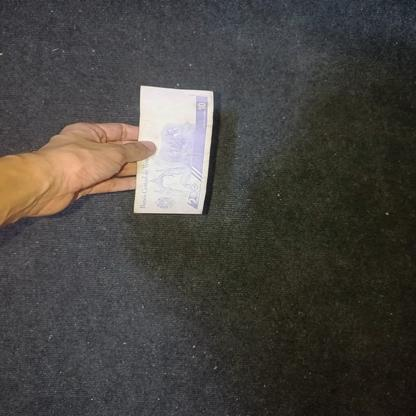ten-back-vef: (134, 84, 216, 212)
